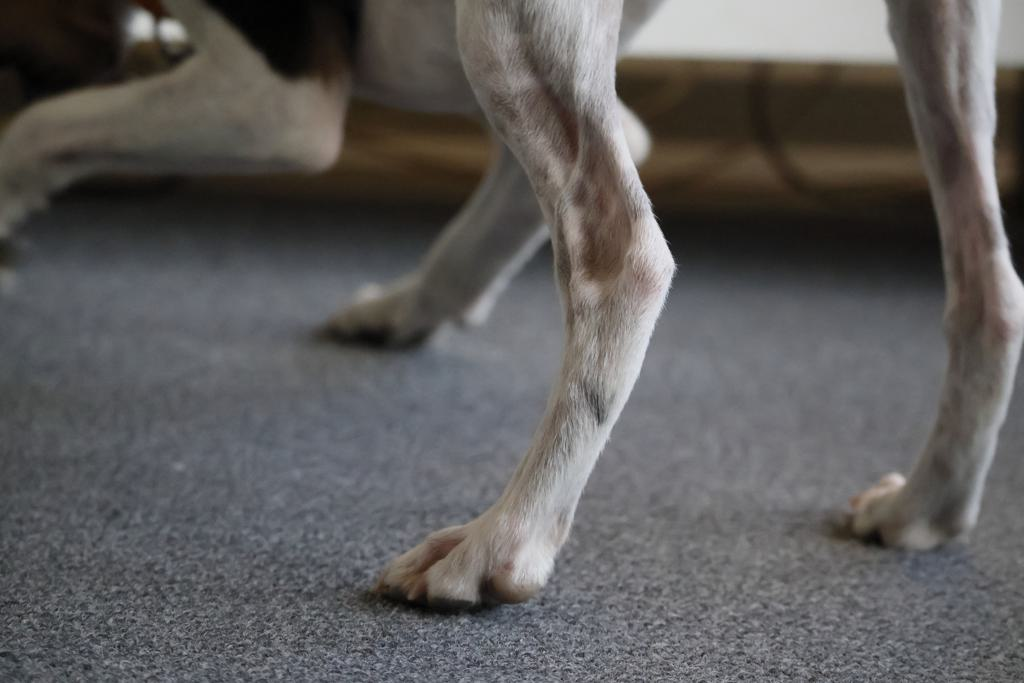Dog: (0, 0, 1024, 629)
